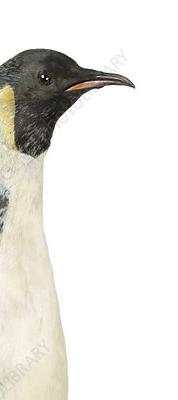Emperor Penguin: (0, 31, 146, 400)
